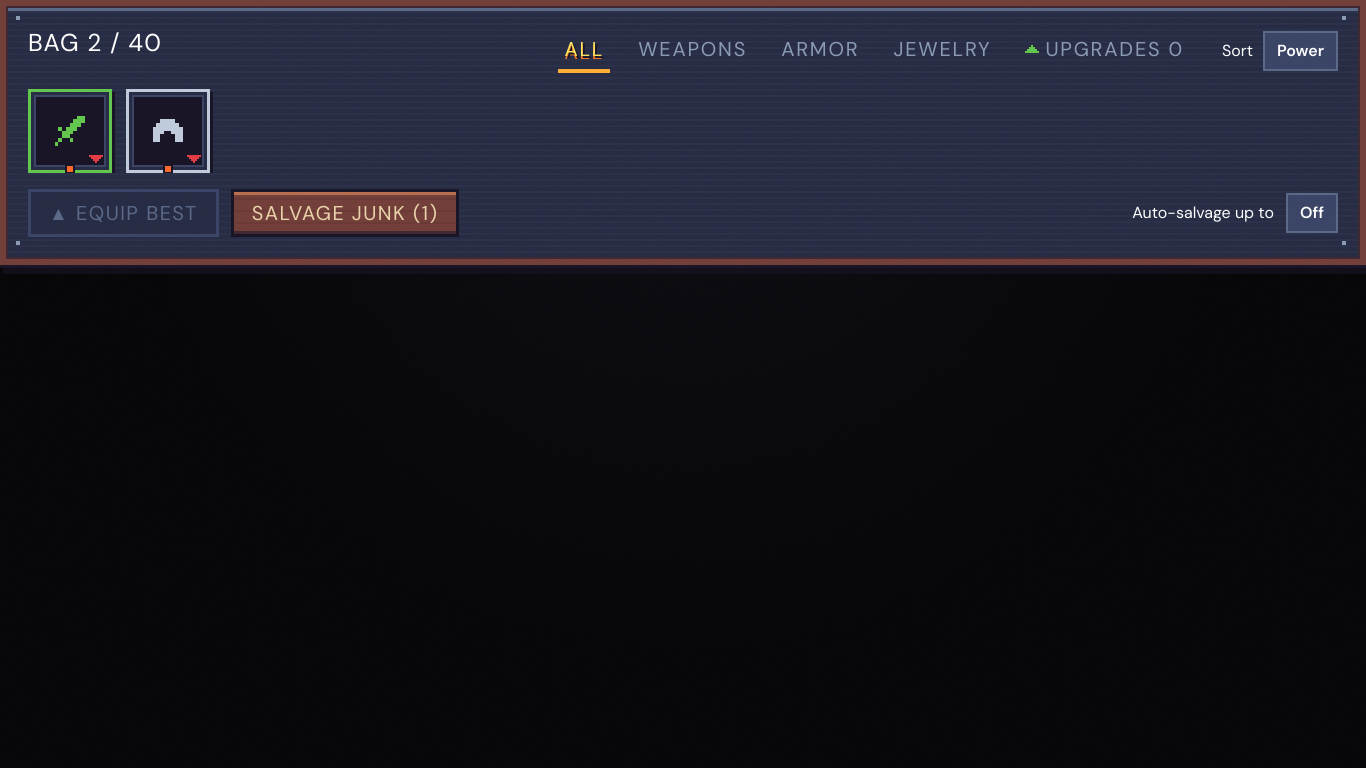
the bag pane › Salvage junk opens the review sheet on what is worse, never a weapon holding runes
The image size is (1366, 768).
Click the button with test id "salvage-junk" at (345, 213), box [231,189,459,237]
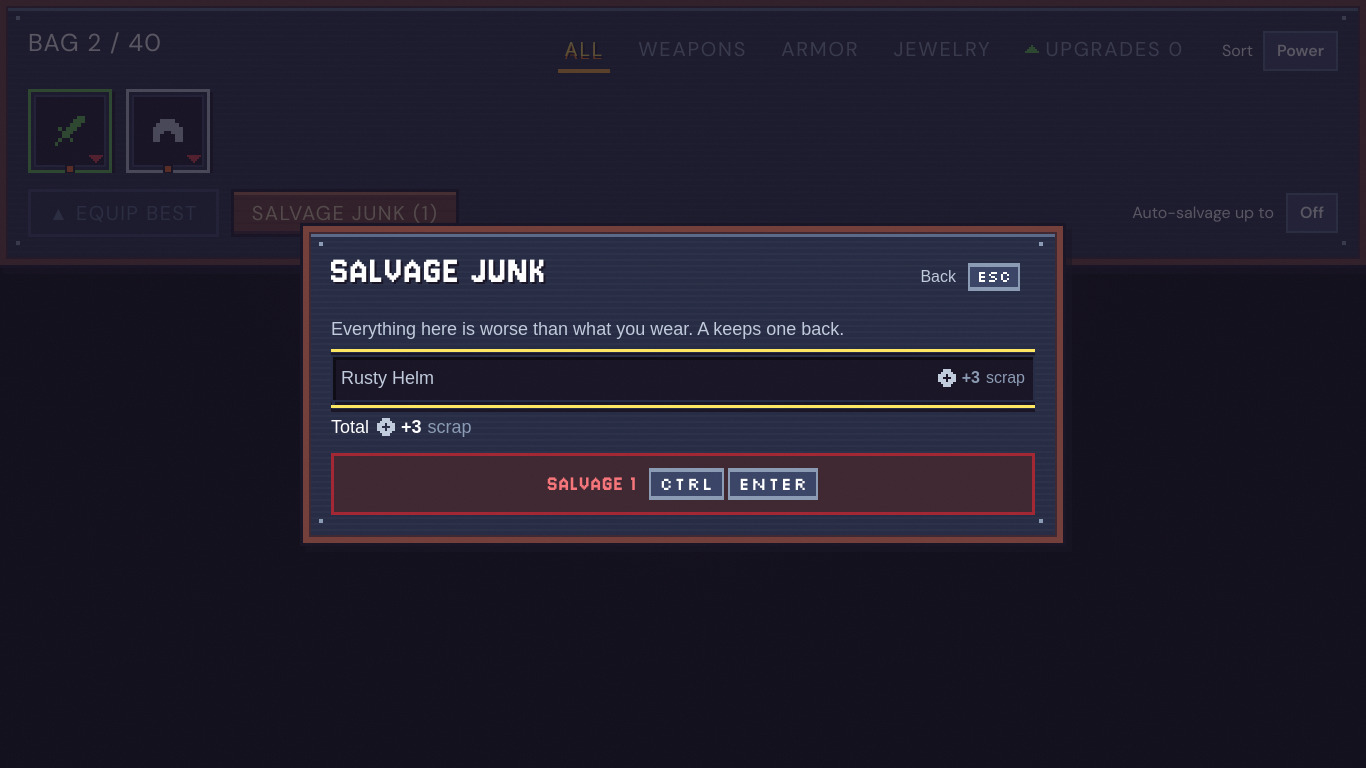
Click the button with test id "junk-salvage" at (683, 484), box [331,452,1035,514]
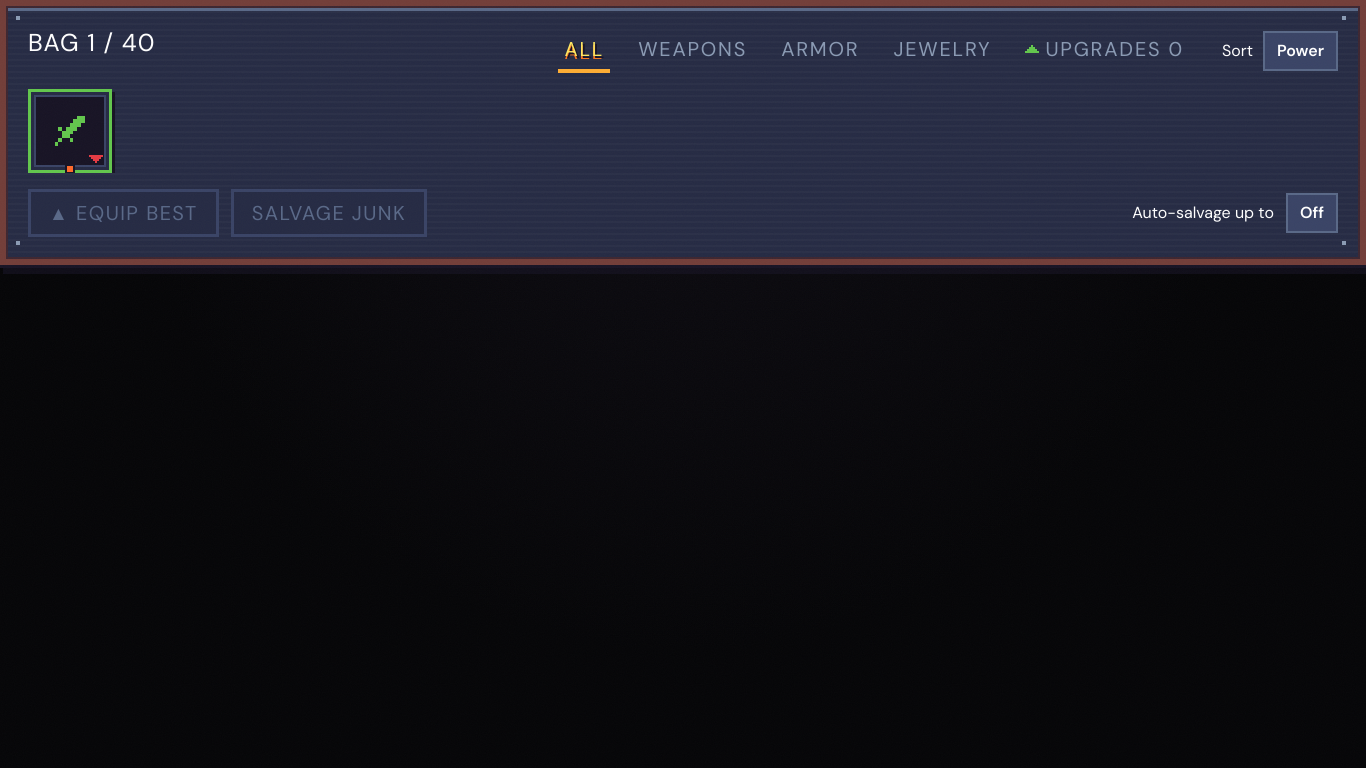
Check: the dialog with test id "junk-sheet" is gone
